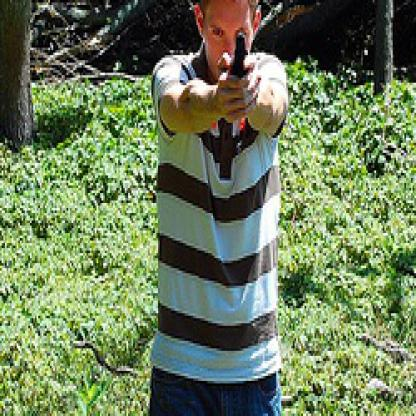gun: (233, 28, 248, 80)
